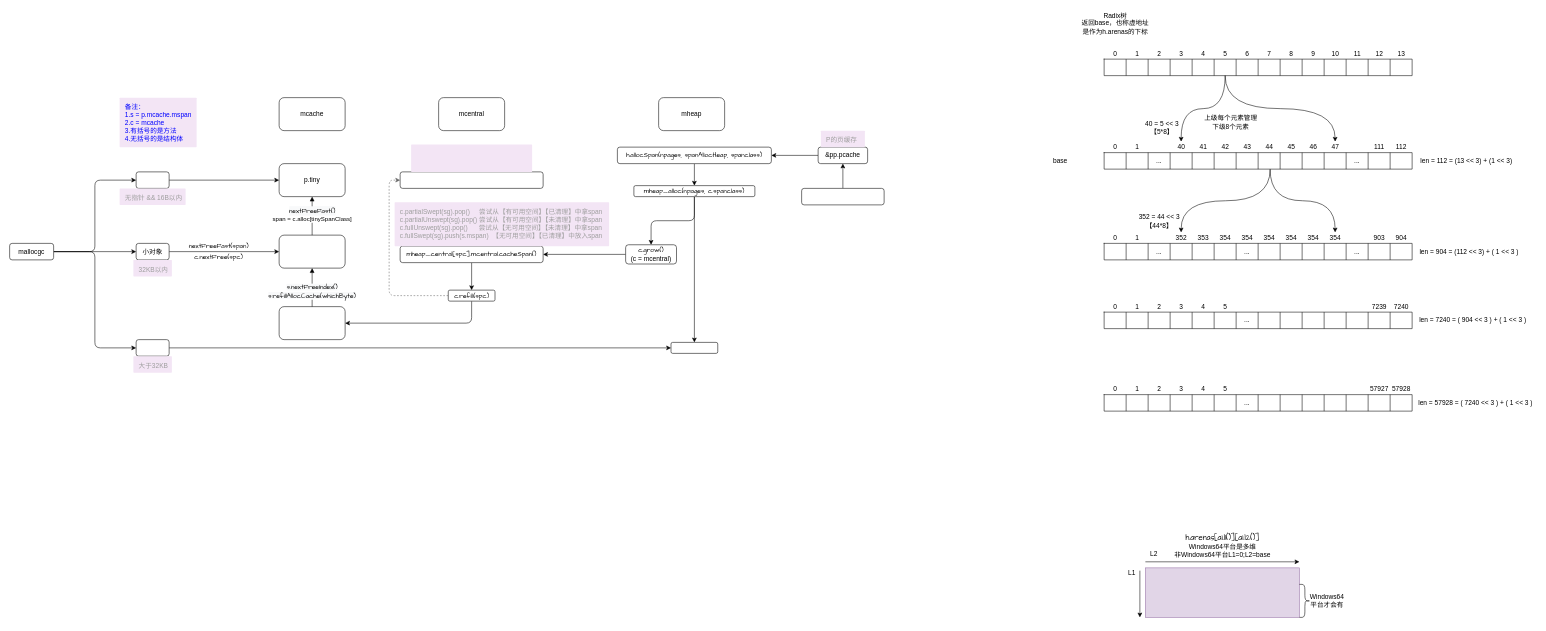
This 1546x631 diagram has some shape labels left out. Here are the shapes that lost their labels. From the top down, the centre of each, then its label:
At point (471, 158): "把跨度类放到已分配(非缓存)的队列里 (这里包括:有空闲链表和无空闲链表)".
At point (152, 179): "微对象".
At point (471, 179): "mheap_.central[spc].mcentral.uncacheSpan(s)".
At point (842, 196): "h.pages.allocToCache()".
At point (312, 251): "s.allocCache (64块)".
At point (312, 323): "s.allocBits (span所有块)".
At point (152, 347): "大对象".
At point (694, 347): "c.allocLarge()".
At point (1222, 592): "[0][0] [0][...] [0][L2] heapArena heapArena heapArena [L1][0] [L1][...] [L1][L2]".
